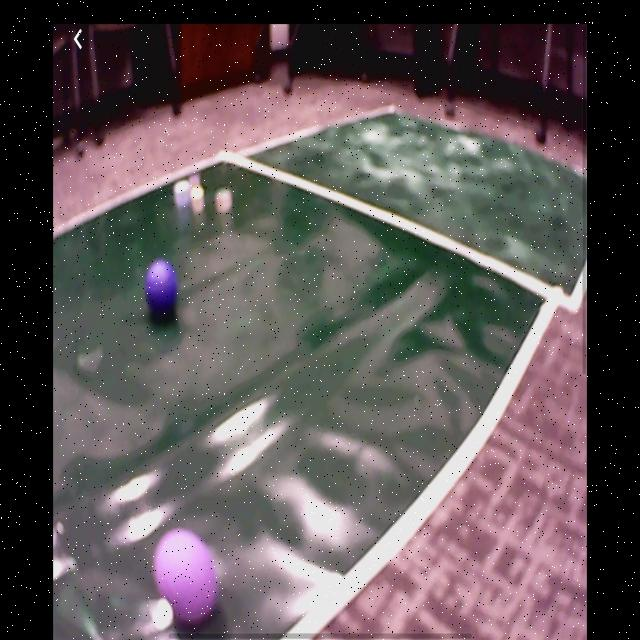ball: (154, 530, 218, 626), (145, 261, 179, 316)
